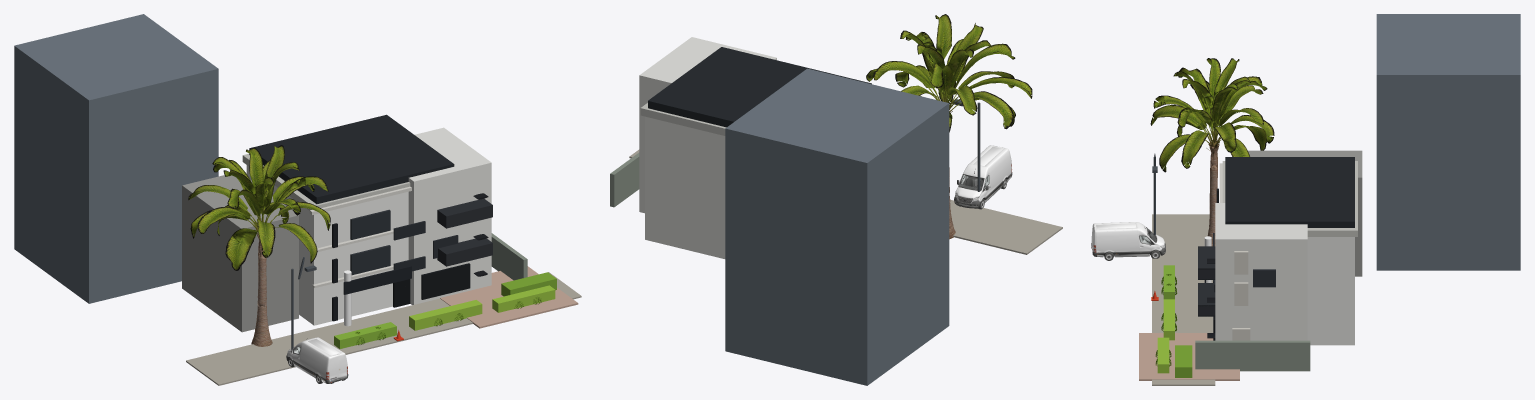
File: world.glb
3 renders of one model, left to right at view 1: azimuth 30°, elevation 25°; view 2: azimuth 150°, elevation 25°; view 3: azimuth 270°, elevation 25°, orthographic. The views are drawn at different scales.
Parts seen in each view (by area): view 1: primitive-base-mesh (×19), tripo_node_40f33689-19e3-4f47-af31-3b40153ef03f, tripo_node_2564325a-fb35-49d2-8a94-c82f8eb06e11, object 50; view 2: primitive-base-mesh (×7), tripo_node_40f33689-19e3-4f47-af31-3b40153ef03f, tripo_node_2564325a-fb35-49d2-8a94-c82f8eb06e11; view 3: primitive-base-mesh (×16), tripo_node_40f33689-19e3-4f47-af31-3b40153ef03f, tripo_node_2564325a-fb35-49d2-8a94-c82f8eb06e11.
Part boxes in pixels (x1,y1,x2,y2): primitive-base-mesh (×19): (14,14,581,385); tripo_node_40f33689-19e3-4f47-af31-3b40153ef03f: (188,145,330,346); tripo_node_2564325a-fb35-49d2-8a94-c82f8eb06e11: (286,337,348,383); object 50: (421,263,470,299); primitive-base-mesh (×7): (610,37,1062,385); tripo_node_40f33689-19e3-4f47-af31-3b40153ef03f: (866,14,1032,239); tripo_node_2564325a-fb35-49d2-8a94-c82f8eb06e11: (954,145,1012,209); primitive-base-mesh (×16): (1139,14,1520,385); tripo_node_40f33689-19e3-4f47-af31-3b40153ef03f: (1150,58,1274,246); tripo_node_2564325a-fb35-49d2-8a94-c82f8eb06e11: (1091,222,1165,260).
Bounding box in the file's own units: 14.5 × 7.5 × 14.91.
84 materials, 9 textured.
